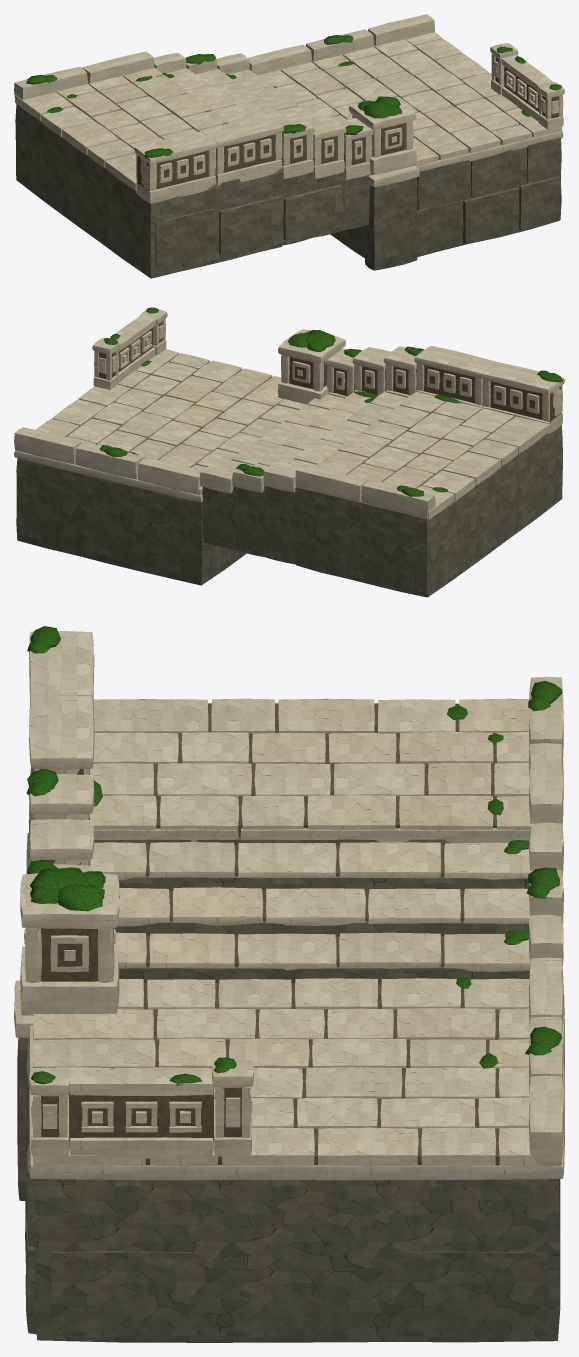
The picture shows the model from 3 angles, top to bottom: view 1: azimuth 30°, elevation 25°; view 2: azimuth 150°, elevation 25°; view 3: azimuth 270°, elevation 25°; orthographic projection. The views are drawn at different scales.
Parts seen in each view (by area): view 1: Mesh_TerraceLimestone, Mesh_TerraceDampSkirt, Mesh_TerraceCarvedGrout, Mesh_TerraceMossCushions; view 2: Mesh_TerraceLimestone, Mesh_TerraceDampSkirt, Mesh_TerraceCarvedGrout, Mesh_TerraceMossCushions; view 3: Mesh_TerraceLimestone, Mesh_TerraceDampSkirt, Mesh_TerraceCarvedGrout, Mesh_TerraceMossCushions.
Part boxes in pixels (left/top/right/bottom): Mesh_TerraceLimestone: left=14, top=14, right=564, bottom=203; Mesh_TerraceDampSkirt: left=15, top=104, right=561, bottom=278; Mesh_TerraceCarvedGrout: left=63, top=45, right=558, bottom=191; Mesh_TerraceMossCushions: left=26, top=35, right=561, bottom=157; Mesh_TerraceLimestone: left=14, top=309, right=564, bottom=519; Mesh_TerraceDampSkirt: left=16, top=425, right=562, bottom=597; Mesh_TerraceCarvedGrout: left=66, top=322, right=561, bottom=488; Mesh_TerraceMossCushions: left=99, top=307, right=562, bottom=496; Mesh_TerraceLimestone: left=14, top=631, right=564, bottom=1180; Mesh_TerraceDampSkirt: left=17, top=768, right=560, bottom=1342; Mesh_TerraceCarvedGrout: left=25, top=703, right=500, bottom=1165; Mesh_TerraceMossCushions: left=26, top=626, right=562, bottom=1085.
Size of the model in its own units: 8.04 by 3.11 by 4.73.
4 materials, 4 textured.
